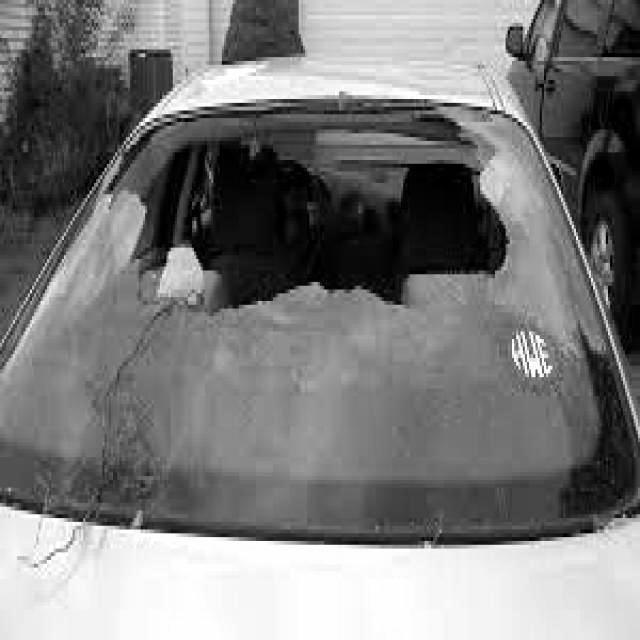Rear-windscreen-Damage: (0, 93, 638, 588)
